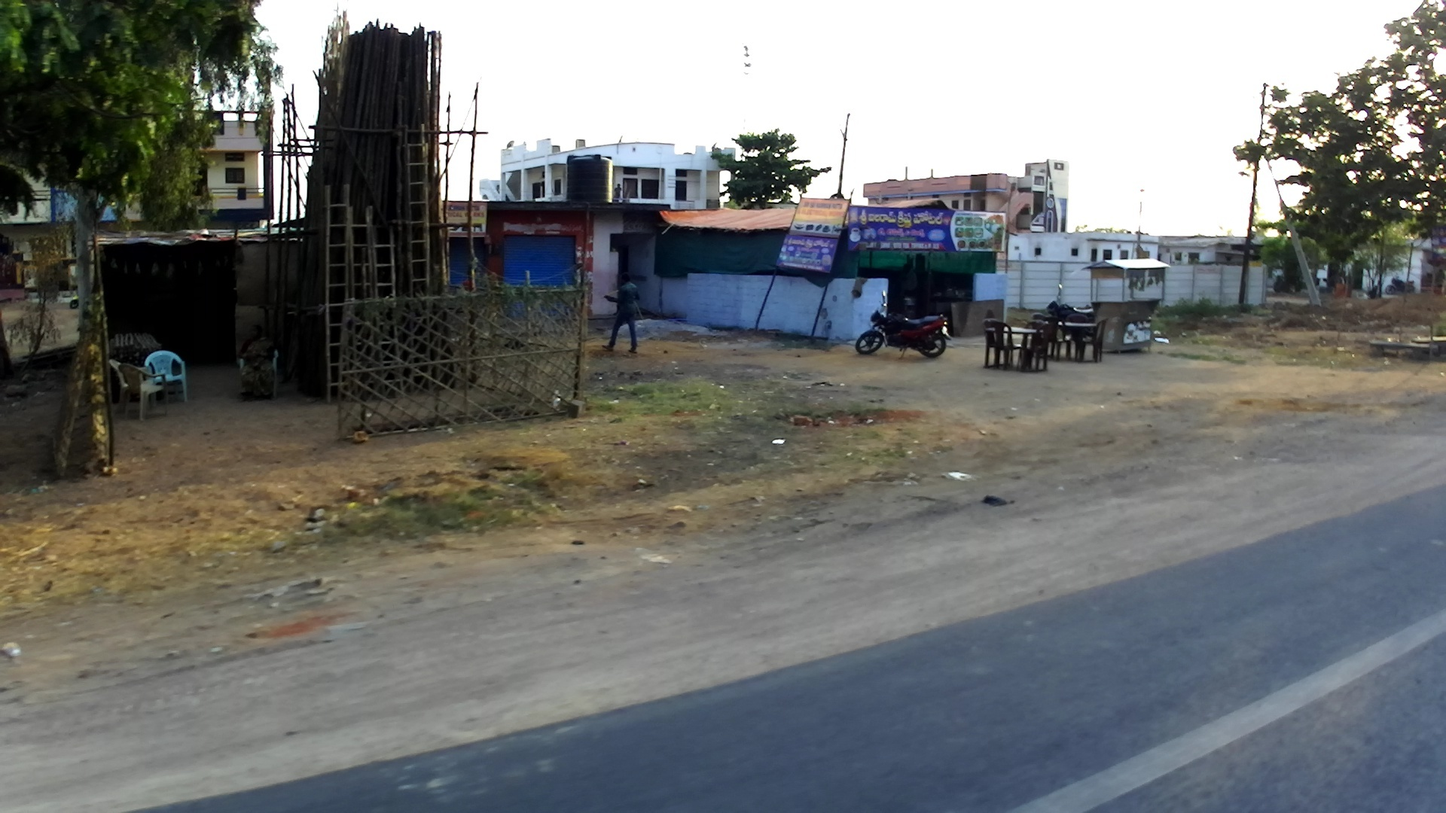animal: (741, 41, 752, 79)
motorcycle: (853, 289, 956, 361), (1048, 282, 1100, 336), (1383, 276, 1414, 300)
person: (236, 320, 280, 403), (602, 269, 642, 354)
vehicle fallback: (1268, 273, 1304, 296), (69, 288, 79, 312)
